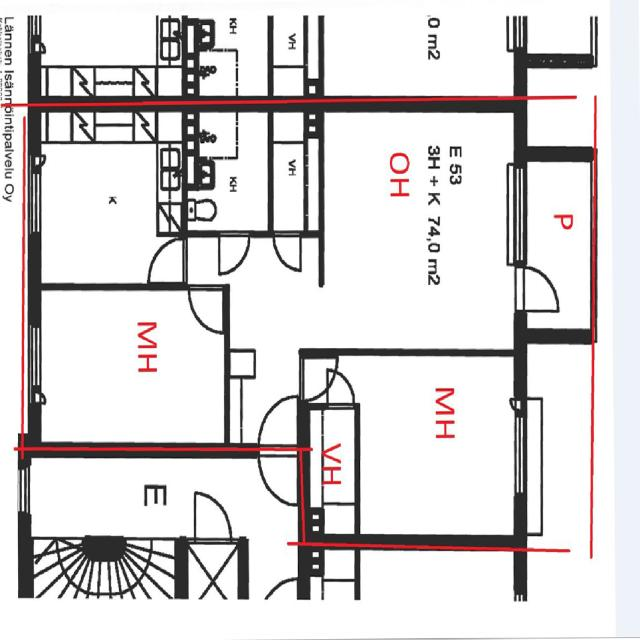door: (192, 541, 236, 603), (190, 488, 233, 544), (258, 393, 300, 447), (257, 452, 300, 503), (519, 264, 562, 312), (148, 236, 185, 285), (187, 286, 224, 332), (216, 232, 251, 278), (301, 358, 335, 404), (324, 369, 358, 409), (272, 232, 304, 273)
window: (506, 164, 530, 267), (510, 409, 532, 504), (24, 162, 45, 240), (26, 323, 45, 397), (15, 462, 32, 519)
zone: (321, 111, 518, 356), (36, 286, 232, 446), (356, 356, 522, 543), (32, 110, 184, 287), (26, 2, 180, 100), (520, 157, 593, 328), (185, 108, 269, 235), (306, 384, 358, 539), (271, 112, 312, 234), (30, 538, 90, 601)
